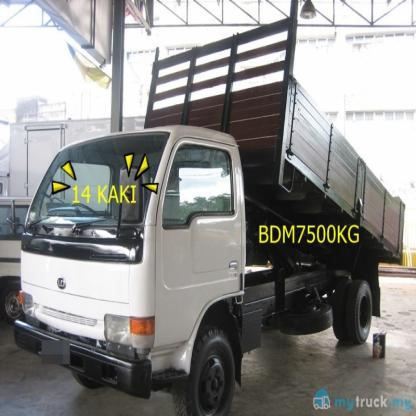dump_truck: (18, 9, 408, 413)
